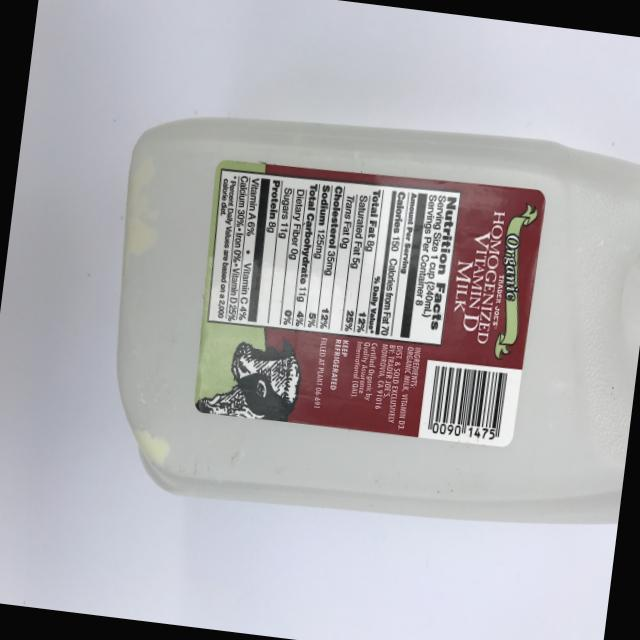Plastic: (62, 59, 640, 596)
